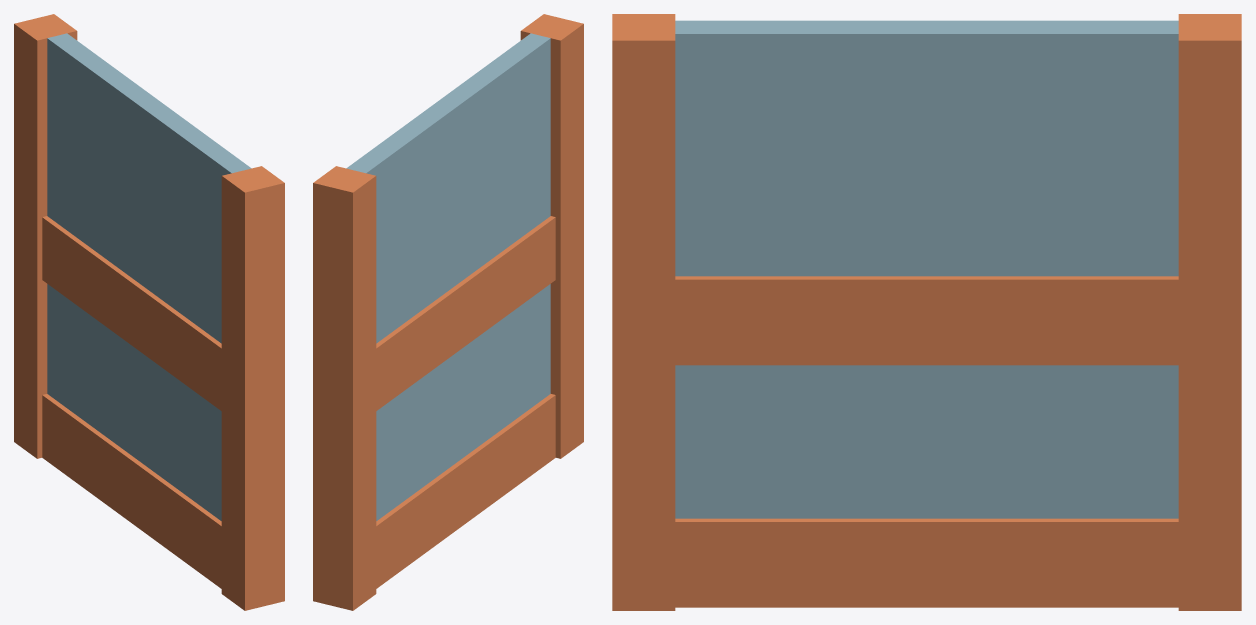
Rendered from wallDetailHorizontal.fbx.
3 renders of one model, left to right at view 1: azimuth 30°, elevation 25°; view 2: azimuth 150°, elevation 25°; view 3: azimuth 270°, elevation 25°, orthographic. The views are drawn at different scales.
Parts seen in each view (by area): view 1: wallDetailHorizontal; view 2: wallDetailHorizontal; view 3: wallDetailHorizontal.
Boxes of the visible parts, x1,y1,x2,y2 form: wallDetailHorizontal: (14,14,284,610); wallDetailHorizontal: (313,14,583,610); wallDetailHorizontal: (612,14,1241,610).
Bounding box in the file's own units: 1 × 10 × 10.
